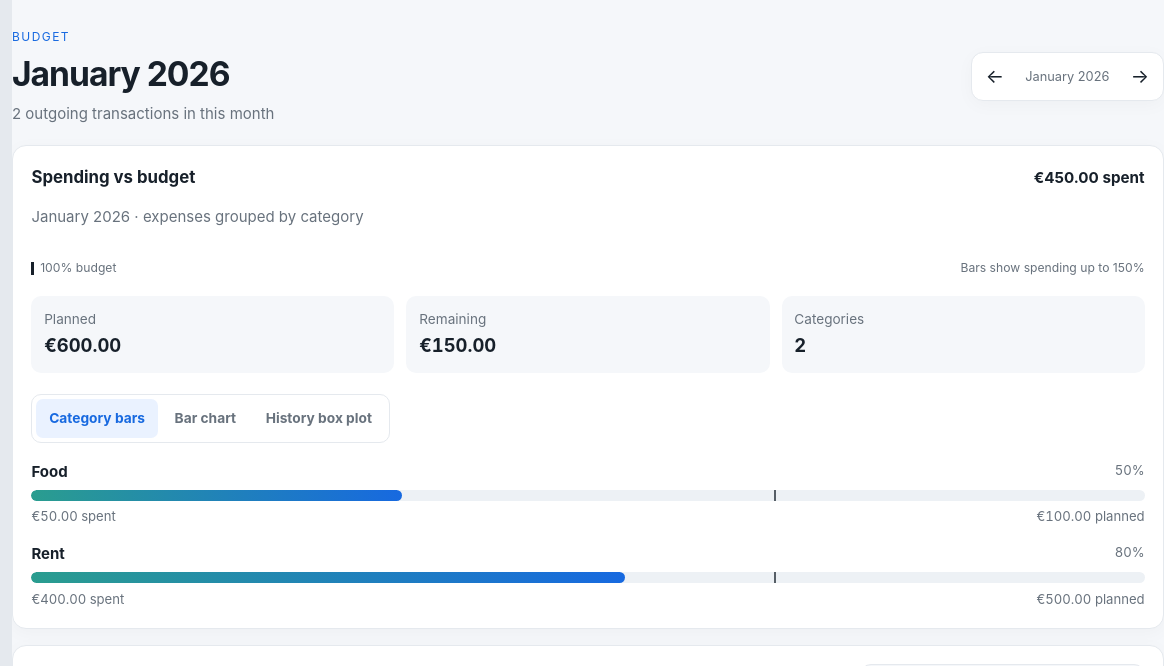
Test: plan tab › switches from the progress list to the bar chart view
This screenshot has width=1164, height=666.
Expected: the progress indicator named "Food spending progress" is shown, [31,490,1145,501]
Click the tab "Bar chart". click: (205,418)
box: [162,399,249,438]
(page scrolled)
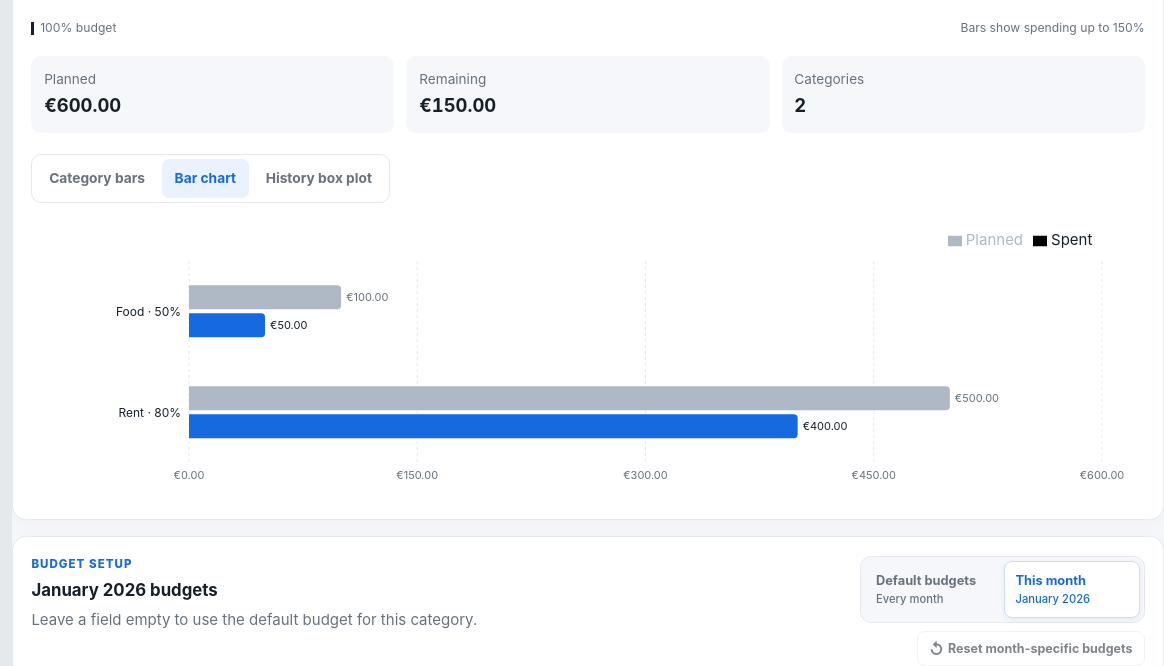
Expected: the picture named "Budget spending bar chart" is shown, [31,221,1145,501]
